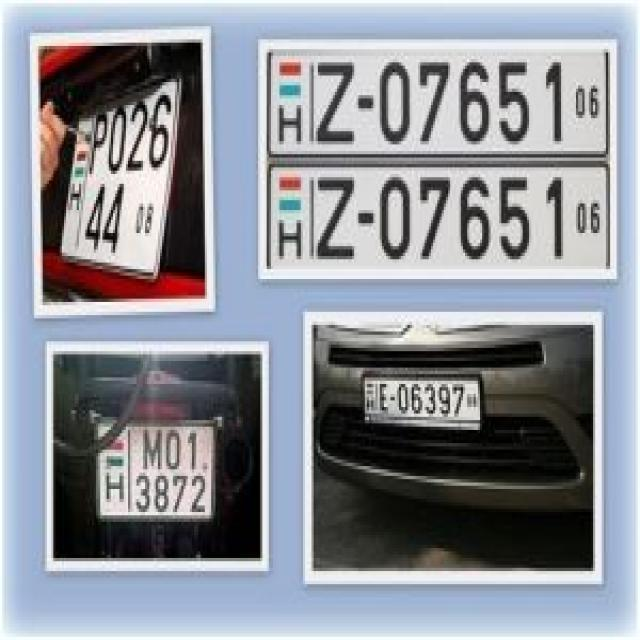licence: (265, 46, 611, 156), (268, 167, 610, 270), (94, 421, 217, 519), (362, 378, 480, 425)
